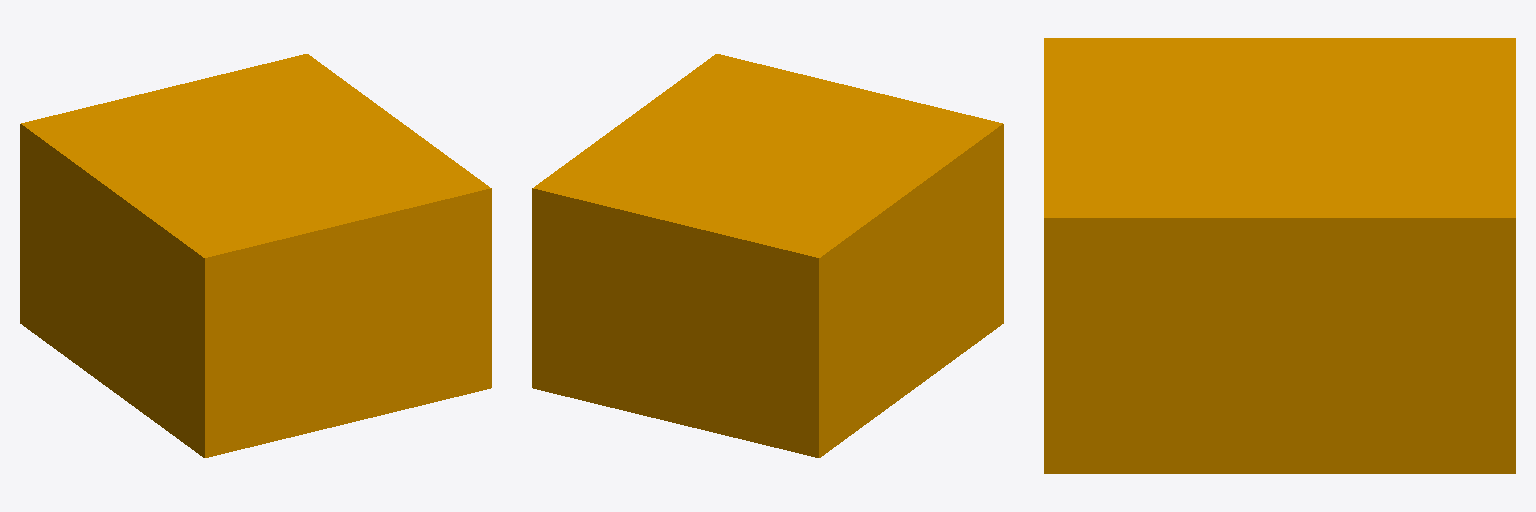
The robot description file, URDF, robot "2x2":
<?xml version='1.0' encoding='UTF-8'?>
<robot name="2x2">
  <link name="base_link">
    <inertial>
      <origin xyz="0.0 0.0 0.0" rpy="0.0 0.0 0.0"/>
      <mass value="0.01"/>
      <inertia ixx="0.1" ixy="0.0" ixz="0.0" iyy="0.1" iyz="0.0" izz="0.1"/>
    </inertial>
    <visual>
      <geometry>
        <box size="      0.018        0.02       0.012"/>
      </geometry>
      <material name=""/>
      <origin xyz="0.0 0.0 0.0" rpy="0.0 0.0 0.0"/>
    </visual>
    <collision>
      <geometry>
        <box size="      0.018        0.02       0.012"/>
      </geometry>
      <origin xyz="0.0 0.0 0.0" rpy="0.0 0.0 0.0"/>
    </collision>
  </link>
  <material name="">
    <color rgba="          1           1           1           1"/>
  </material>
  <contact>
    <lateral_friction value="1.0"/>
    <rolling_friction value="0.0"/>
    <contact_cfm value="0.0"/>
    <contact_erp value="1.0"/>
  </contact>
</robot>

--- What the picture shows (computed from the rendered views, not written in the file) ---
3 views of the same robot in one strip: view 1: azimuth 30°, elevation 25°; view 2: azimuth 150°, elevation 25°; view 3: azimuth 270°, elevation 25° (orthographic).
Model 2x2 with 1 links and 0 joints (none), rooted at base_link, posed every joint at zero.
Visible links, largest first — view 1: base_link; view 2: base_link; view 3: base_link.
Boxes of the visible links, x1=… form: base_link: x1=20, y1=54, x2=491, y2=457; base_link: x1=532, y1=54, x2=1003, y2=457; base_link: x1=1044, y1=38, x2=1515, y2=473.
Size in the robot's own frame: 0.018 by 0.02 by 0.012 metres.
Geometry: primitives only (box / cylinder / sphere), no mesh files.